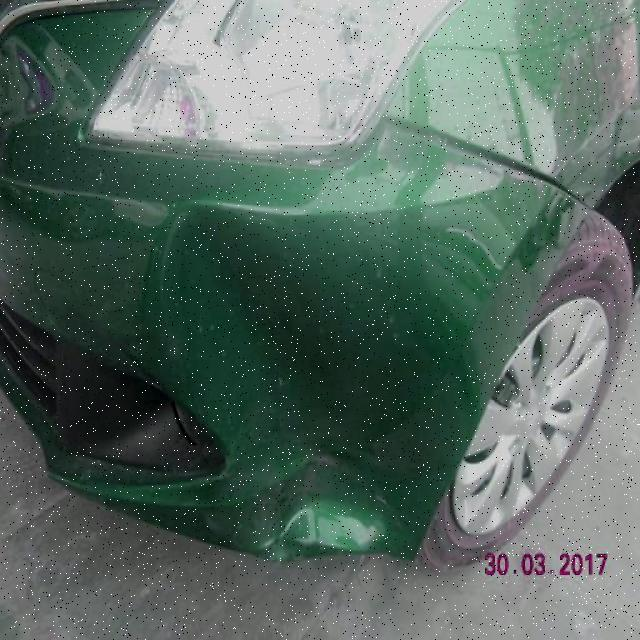car damage: (158, 199, 426, 559)
